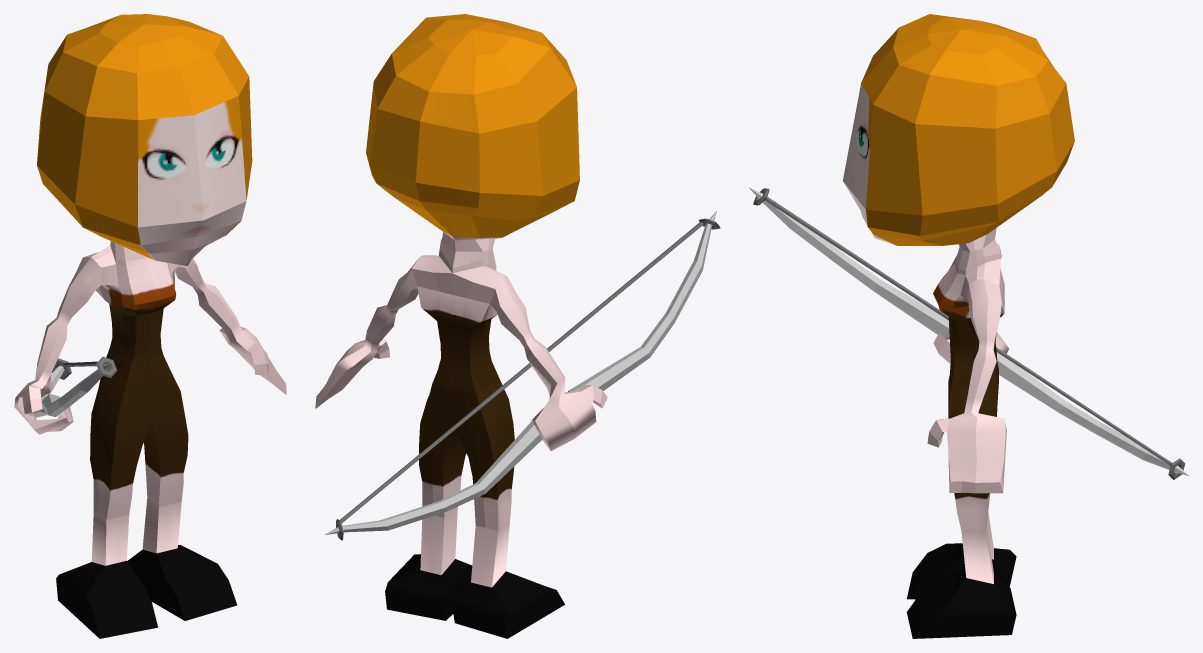
Rendered from arquera.fbx.
The picture shows the model from 3 angles, left to right: view 1: azimuth 30°, elevation 25°; view 2: azimuth 150°, elevation 25°; view 3: azimuth 270°, elevation 25°; orthographic projection.
Visible parts, largest first — view 1: pCube2, pCylinder6; view 2: pCube2, pCylinder6; view 3: pCube2, pCylinder6.
Boxes of the visible parts, x1,y1,x2,y2 form: pCube2: [14, 14, 286, 638]; pCylinder6: [34, 356, 117, 417]; pCube2: [315, 14, 607, 638]; pCylinder6: [325, 211, 720, 540]; pCube2: [843, 14, 1074, 638]; pCylinder6: [749, 187, 1188, 479].
Bounding box in the file's own units: 3.67 × 7.1 × 4.91.
